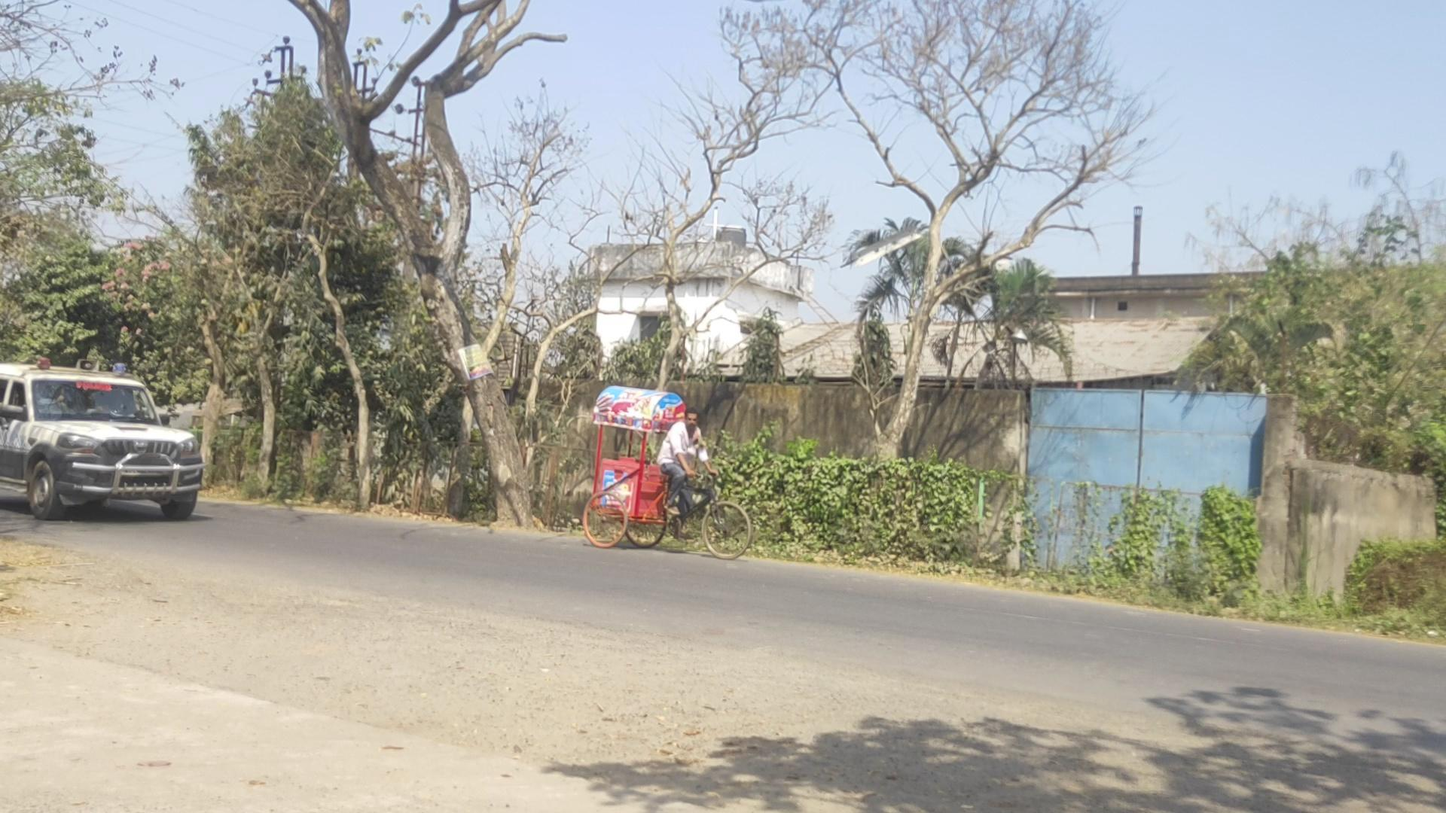car: (1, 356, 203, 522)
